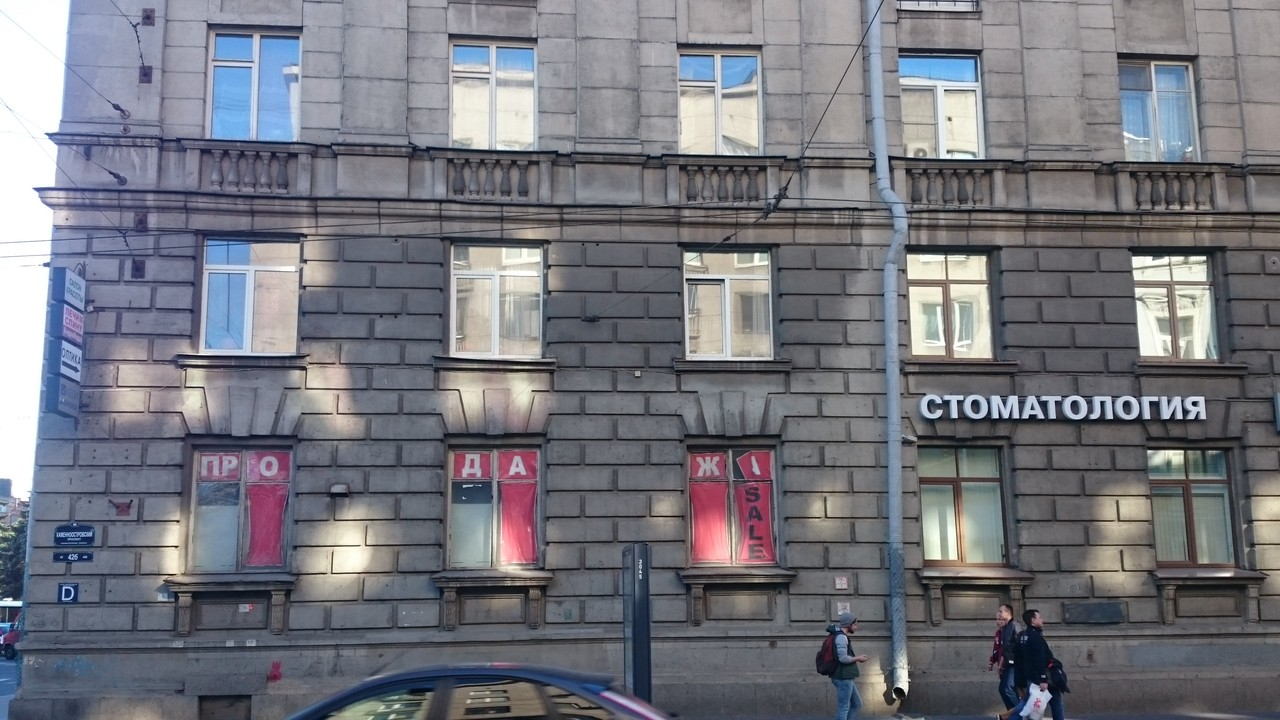cantilever: (45, 262, 96, 422)
signboard: (919, 393, 1206, 423)
window: (186, 447, 298, 575), (196, 240, 305, 354), (446, 445, 539, 572), (203, 26, 303, 140), (918, 442, 1009, 567), (686, 442, 776, 566), (1147, 446, 1238, 567), (447, 243, 544, 356), (684, 246, 777, 361), (907, 248, 997, 358), (899, 49, 987, 160), (451, 42, 537, 152), (1135, 255, 1221, 362), (677, 50, 762, 157), (1120, 57, 1204, 162)
